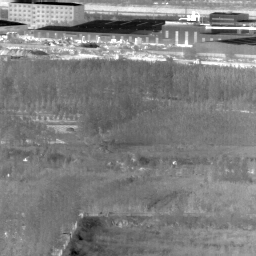aircraft: (90, 42, 92, 44)
